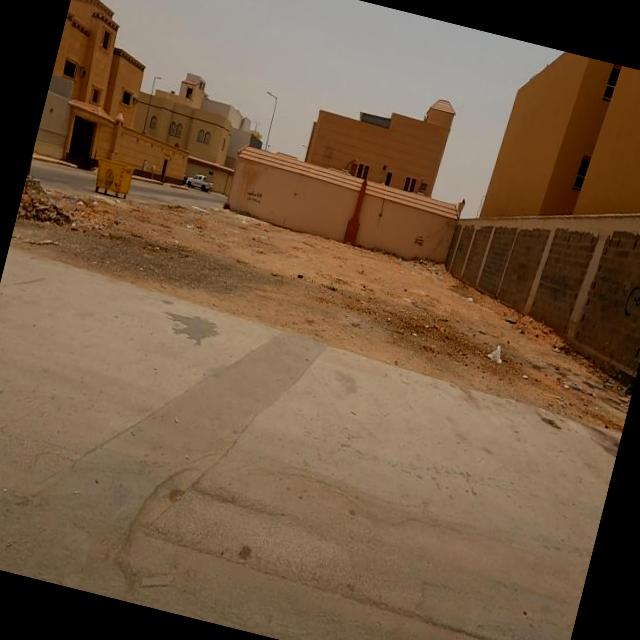debris: (28, 161, 126, 279), (456, 305, 534, 393), (592, 250, 640, 360), (222, 157, 288, 236), (402, 240, 458, 294), (450, 276, 491, 322)
